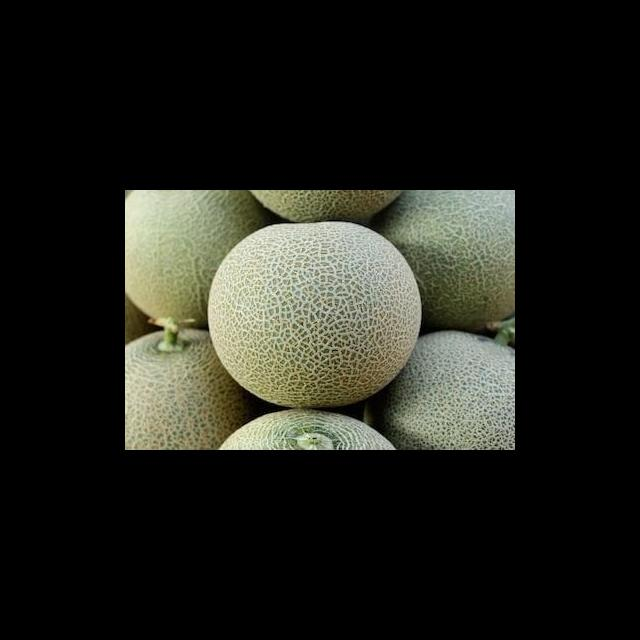Hami Melon: (210, 222, 421, 407)
